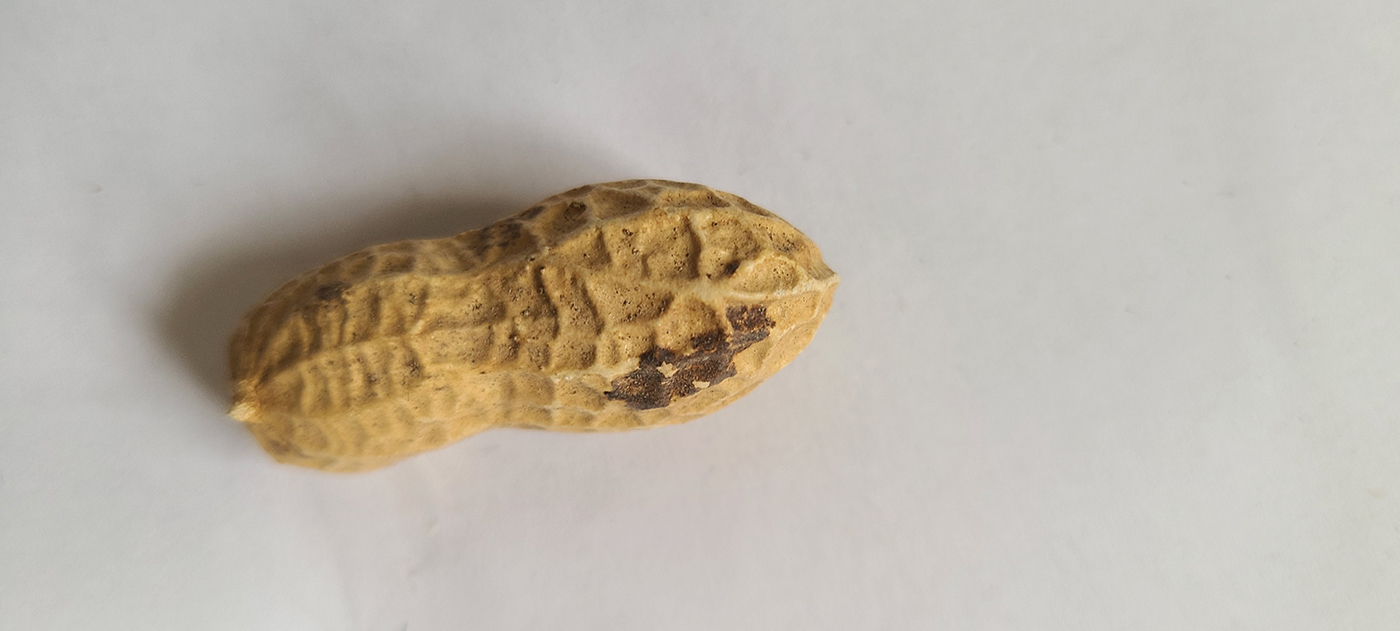h: (224, 176, 842, 474)
